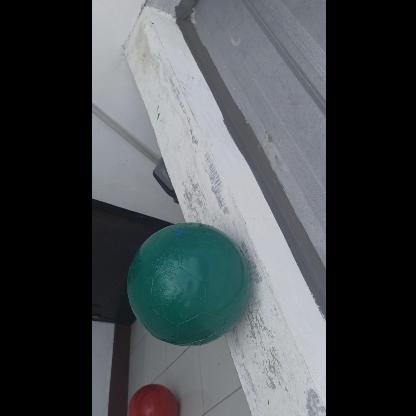green_ball: (124, 224, 248, 346)
